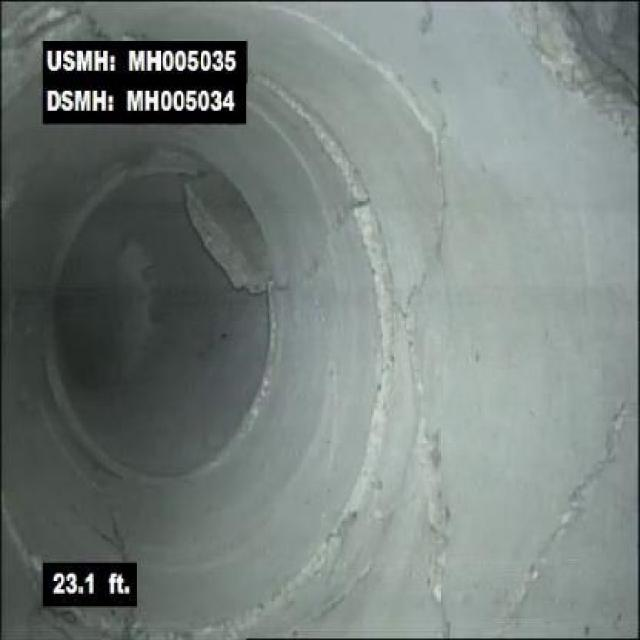Crack: (503, 398, 632, 637), (403, 346, 469, 639), (335, 31, 431, 140), (406, 140, 457, 318)
Hole: (503, 3, 637, 115)
